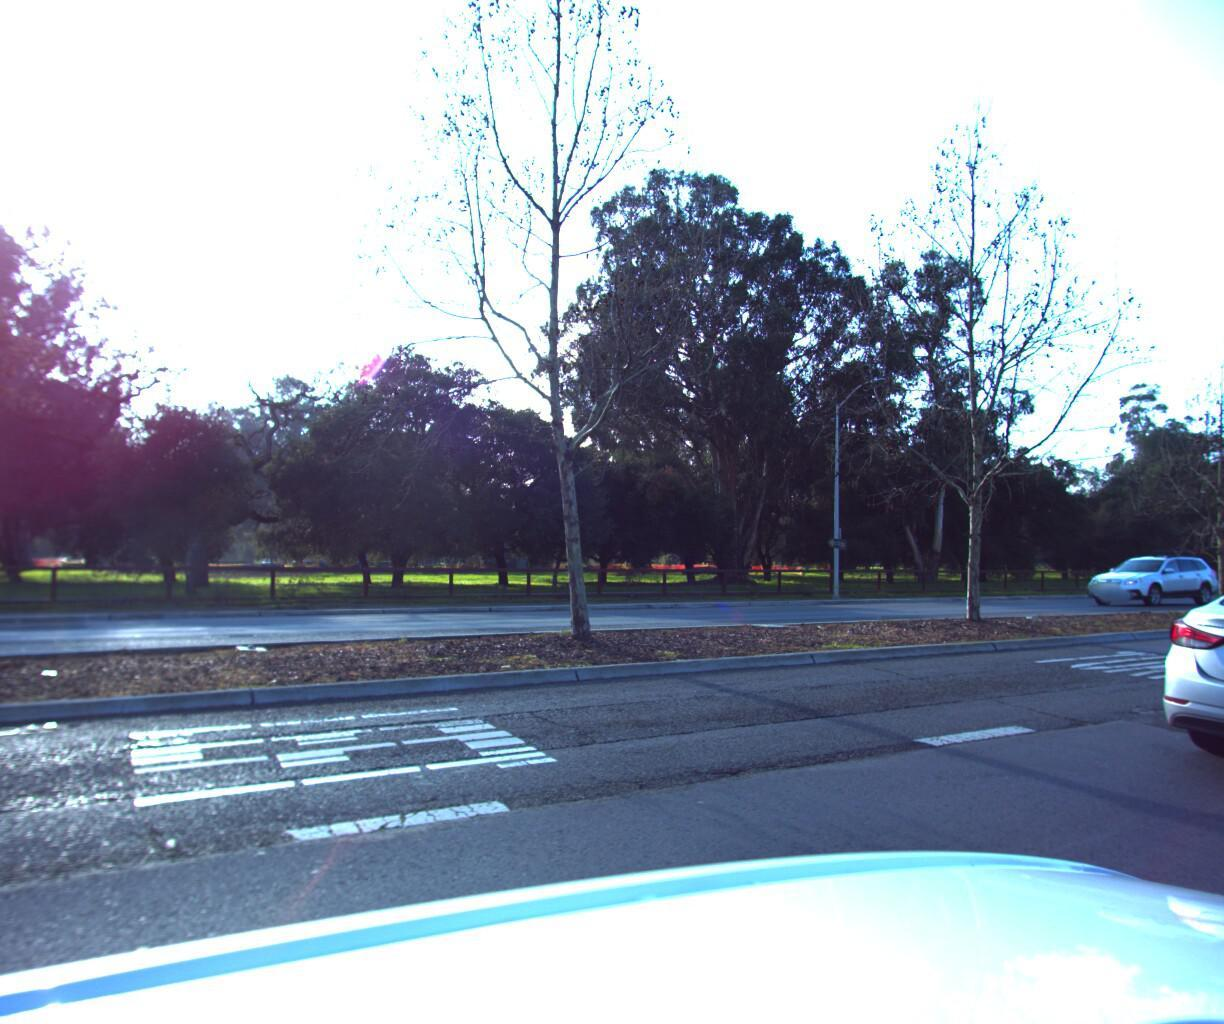car: (1109, 539, 1224, 843), (1080, 543, 1224, 600)
